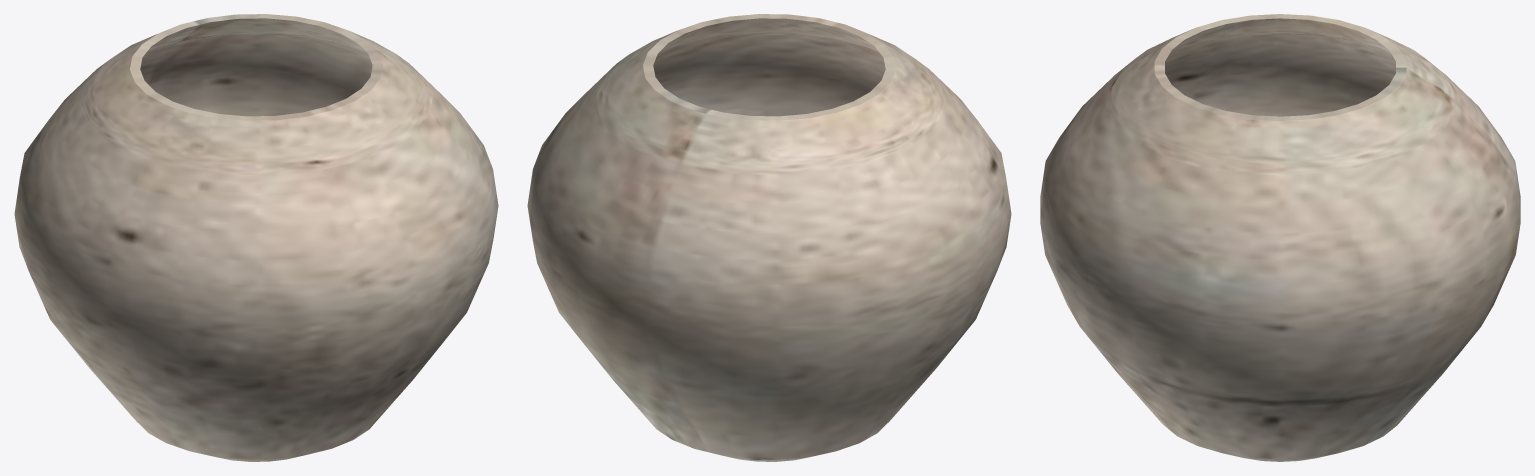
The model's file is 汉代陶瓷罐6.FBX.
The picture shows the model from 3 angles, left to right: view 1: azimuth 30°, elevation 25°; view 2: azimuth 150°, elevation 25°; view 3: azimuth 270°, elevation 25°; orthographic projection.
Visible parts, largest first — view 1: Cylinder001; view 2: Cylinder001; view 3: Cylinder001.
Boxes of the visible parts, x1,y1,x2,y2 form: Cylinder001: (14,14,498,461); Cylinder001: (527,14,1011,461); Cylinder001: (1040,14,1520,461).
Size of the model in its own units: 141 by 116 by 140.
1 material, 1 textured.
